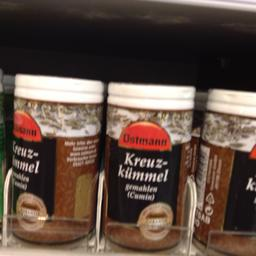spices: (8, 72, 102, 245), (104, 80, 195, 249), (196, 87, 254, 255)
